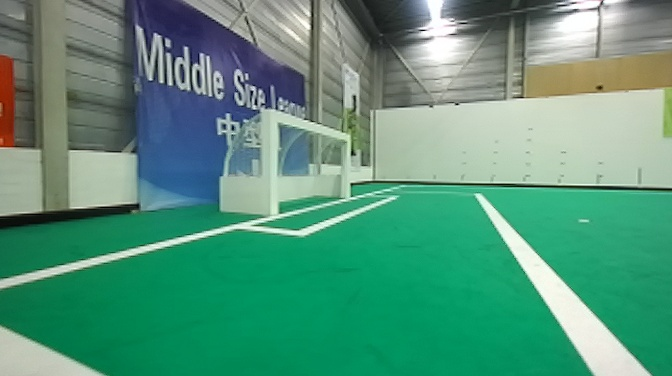goalpost: (254, 97, 285, 216), (329, 121, 355, 201)
